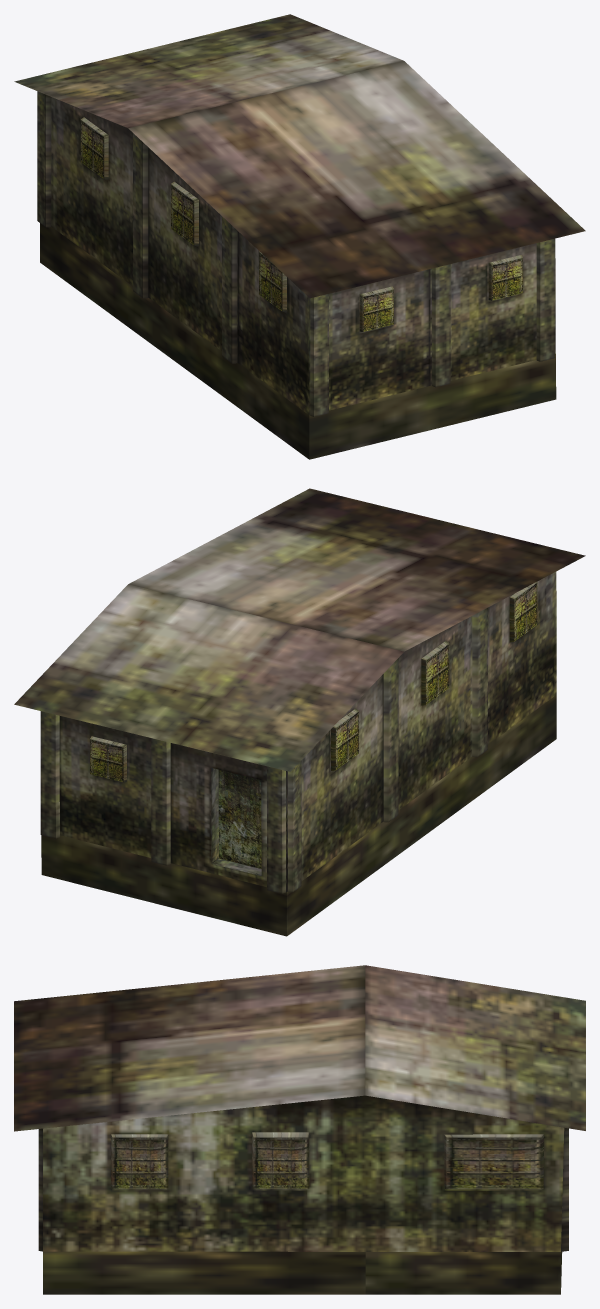
Rendered from Moghut1B.glb.
3 renders of one model, top to bottom at view 1: azimuth 30°, elevation 25°; view 2: azimuth 150°, elevation 25°; view 3: azimuth 270°, elevation 25°, orthographic. The views are drawn at different scales.
Parts seen in each view (by area): view 1: _Moghut1B; view 2: _Moghut1B; view 3: _Moghut1B.
Boxes of the visible parts, bbox=[...] form: _Moghut1B: bbox=[14, 14, 585, 459]; _Moghut1B: bbox=[14, 488, 585, 936]; _Moghut1B: bbox=[14, 965, 585, 1294].
Bounding box in the file's own units: 6.62 × 4.88 × 12.27.
4 materials, 4 textured.
